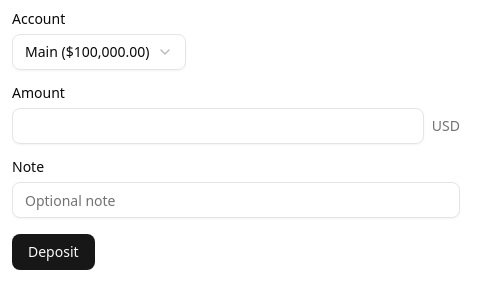
Scenario: DepositForm › disables the submit button while the deposit is in flight
The image size is (477, 287).
Type "5000.00" into the field labelled "Amount" at (218,126), box left=12, top=108, right=424, bottom=144
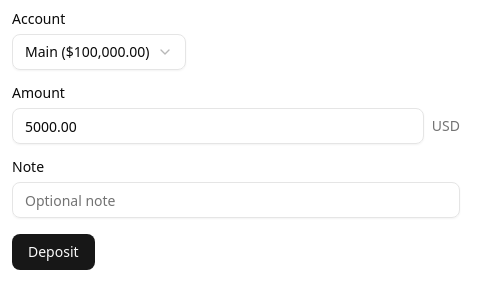
Click the button "Deposit" at (53,252), box left=12, top=234, right=95, bottom=270
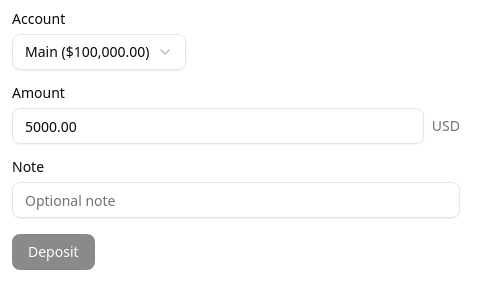
expect the button "Deposit" is disabled: met, box left=12, top=234, right=95, bottom=270
